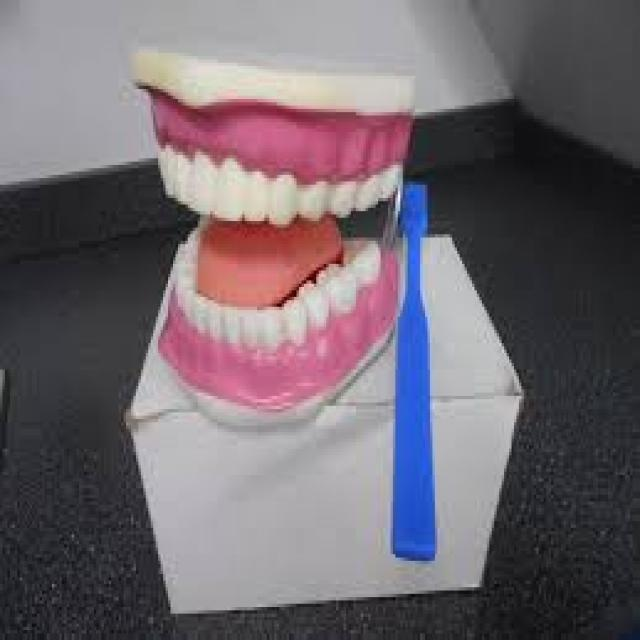tooth: (319, 257, 361, 320), (212, 162, 245, 228), (180, 152, 212, 214), (242, 172, 270, 234), (264, 172, 294, 228), (156, 148, 180, 202), (297, 178, 326, 221), (262, 307, 289, 353), (354, 175, 391, 208), (302, 287, 328, 327), (344, 251, 378, 280), (222, 307, 247, 343), (282, 307, 309, 340), (244, 313, 264, 350), (180, 241, 196, 287), (188, 297, 208, 333), (329, 182, 351, 211), (208, 307, 222, 343), (383, 172, 405, 194), (176, 280, 190, 314)
